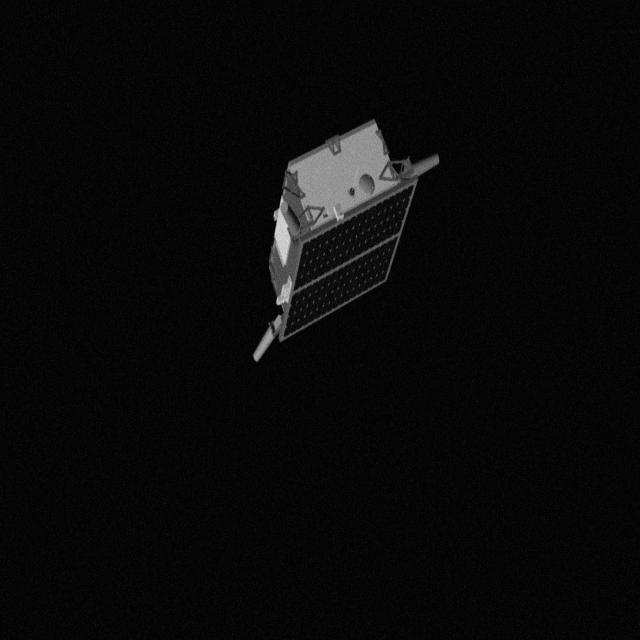satellite: (248, 114, 442, 372)
